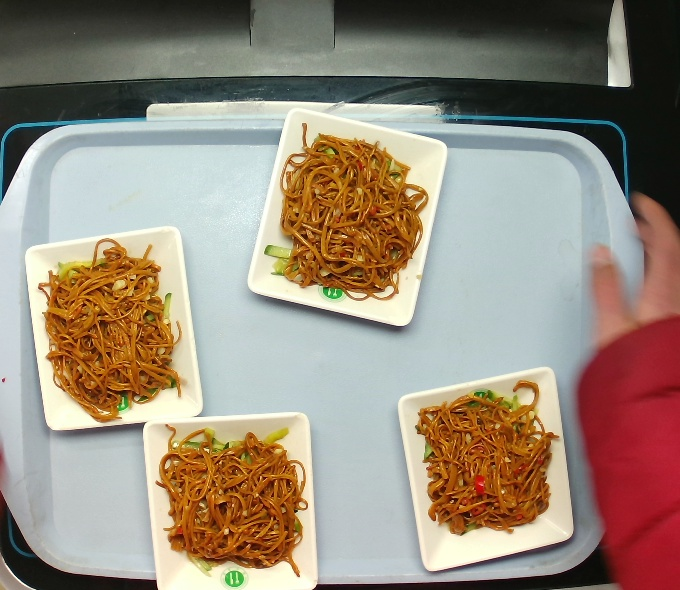wcq-LiangBanChongCaoHua: (37, 238, 181, 439), (275, 122, 429, 302), (155, 423, 309, 578), (410, 376, 560, 535)
